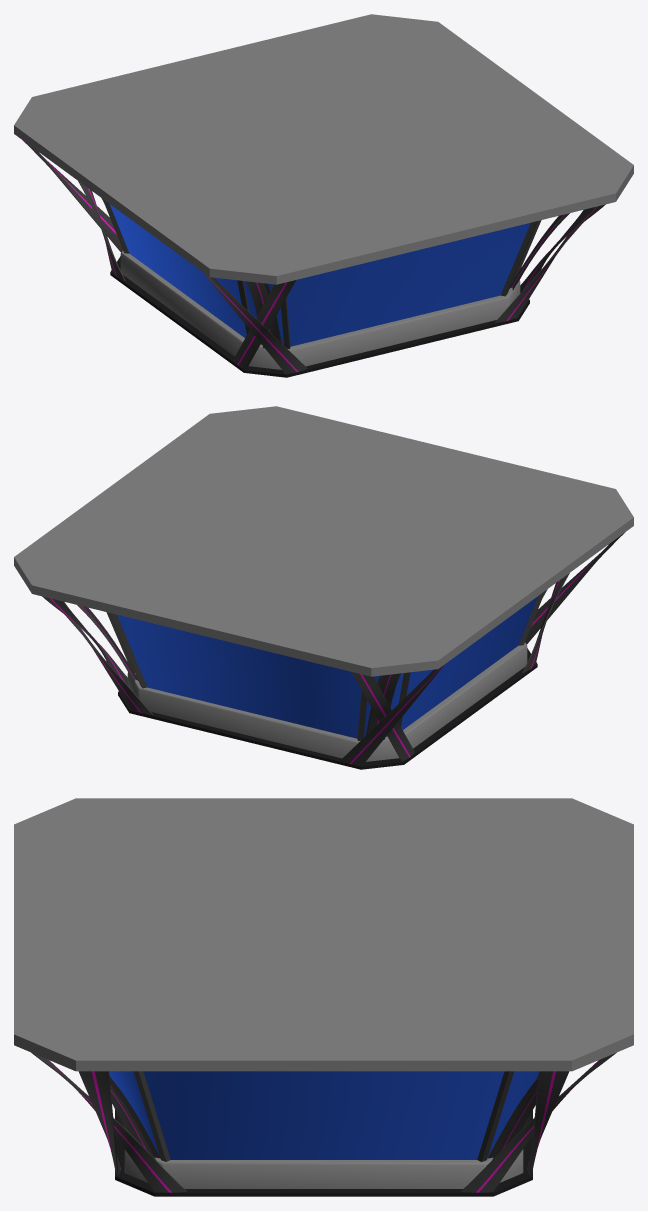
File: SM_Building_Roof_MK6.fbx
3 renders of one model, top to bottom at view 1: azimuth 30°, elevation 25°; view 2: azimuth 150°, elevation 25°; view 3: azimuth 270°, elevation 25°, orthographic. The views are drawn at different scales.
Parts seen in each view (by area): view 1: SM_Building_Roof_MK6; view 2: SM_Building_Roof_MK6; view 3: SM_Building_Roof_MK6.
Part boxes in pixels (x1=…): SM_Building_Roof_MK6: x1=14, y1=14, x2=633, y2=377; SM_Building_Roof_MK6: x1=14, y1=406, x2=633, y2=769; SM_Building_Roof_MK6: x1=14, y1=798, x2=633, y2=1196.
Size of the model in its own units: 1553 by 500 by 1551.
